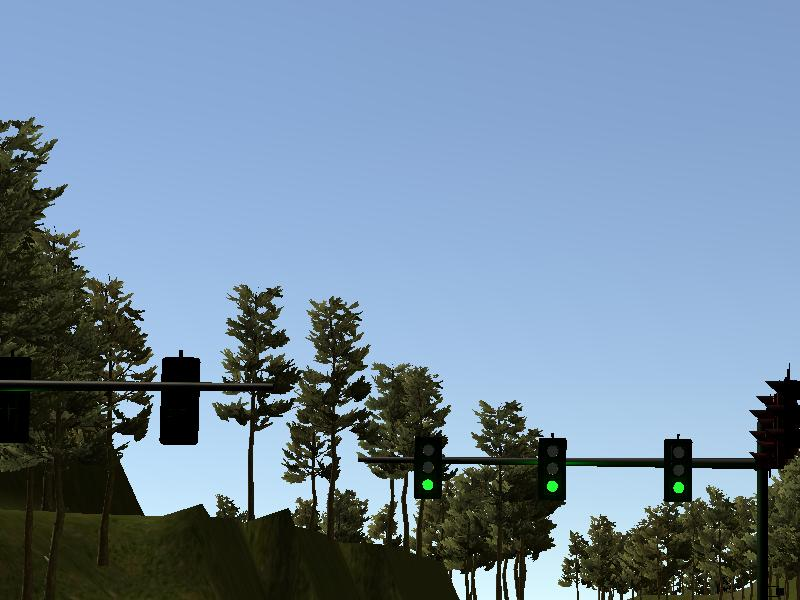green: (412, 434, 444, 500), (536, 437, 568, 503), (662, 437, 694, 503)
